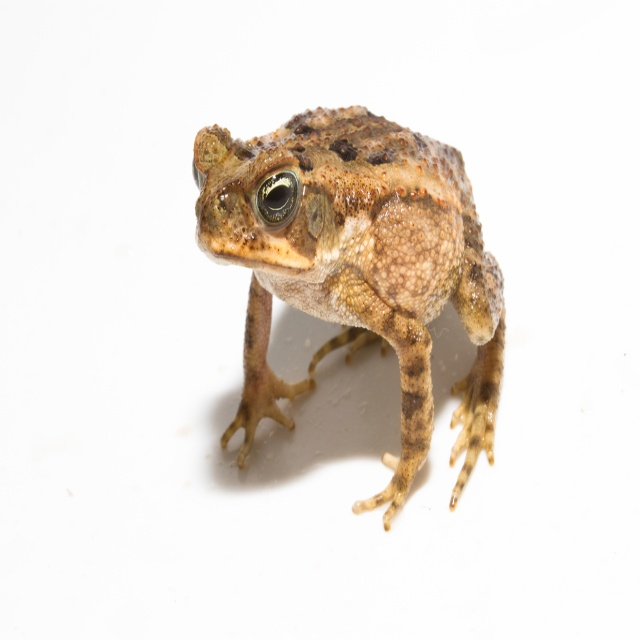Frog: (189, 103, 505, 537)
